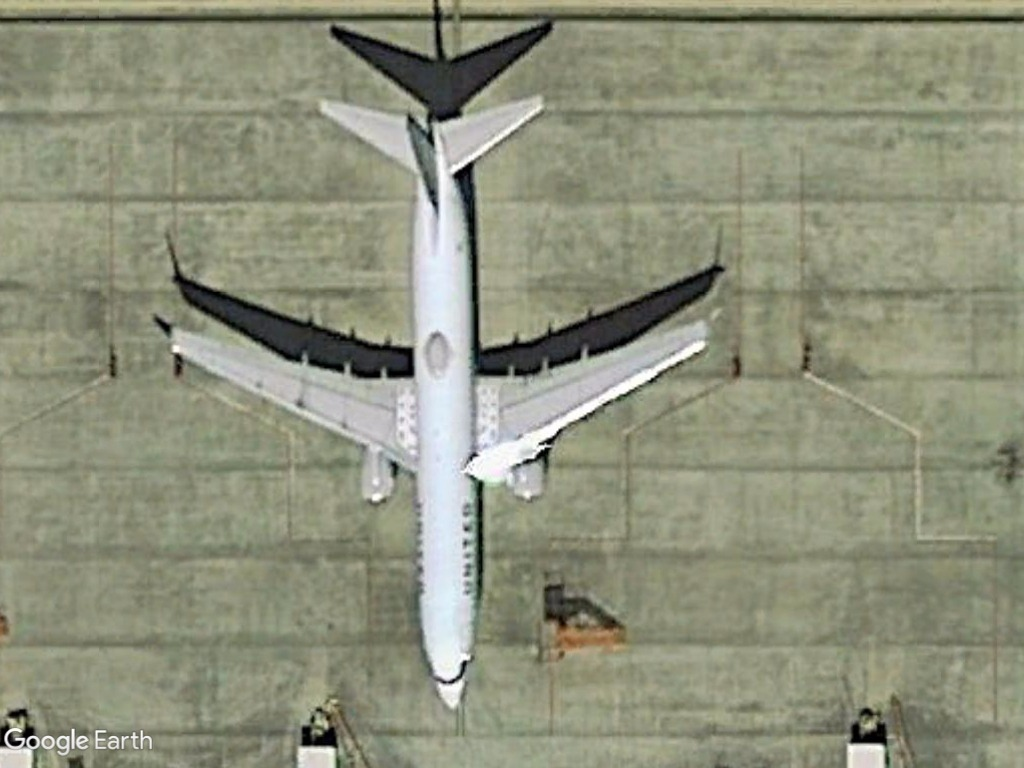airliner: (163, 86, 718, 720)
